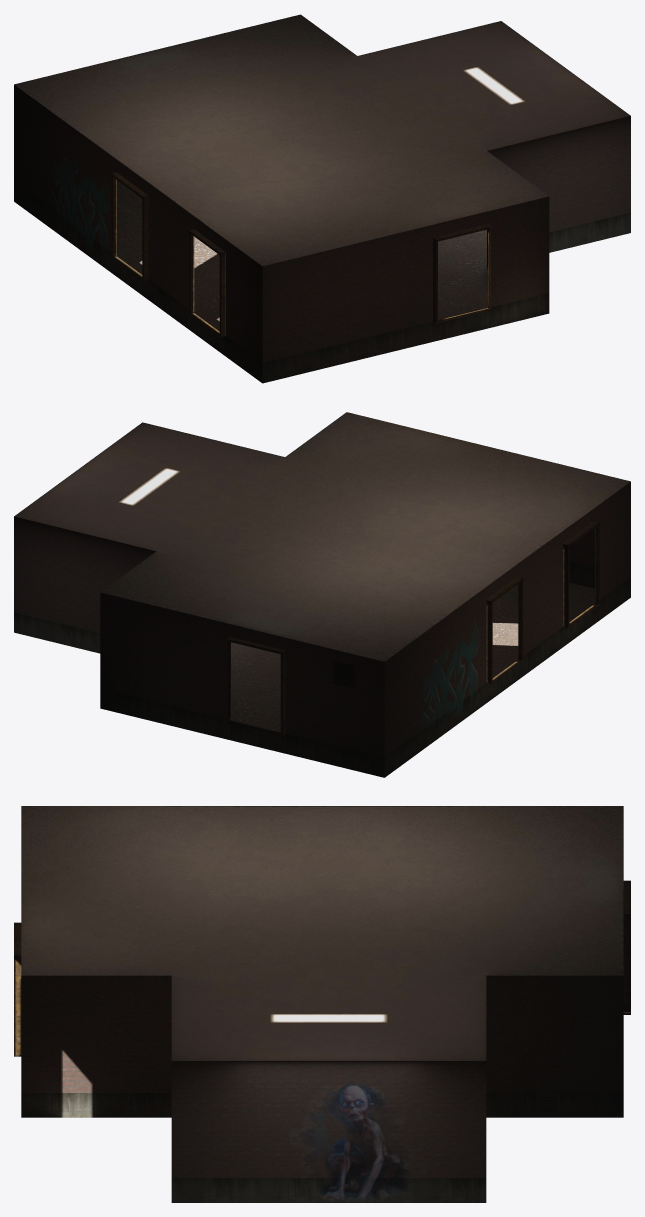
The model's file is room.obj.
3 views of the same model, one above another, from view 1: azimuth 30°, elevation 25°; view 2: azimuth 150°, elevation 25°; view 3: azimuth 270°, elevation 25° (orthographic). The views are drawn at different scales.
Visible parts, largest first — view 1: group_3_ID45, group_5_ID59, group_4_ID52, group_0_ID4; view 2: group_3_ID45, group_5_ID59, group_4_ID52, group_0_ID4; view 3: group_3_ID45, group_5_ID59, group_0_ID4.
Boxes of the visible parts, box(x1,y1,x2,y2) form: group_3_ID45: box(14, 14, 630, 266); group_5_ID59: box(14, 84, 630, 383); group_4_ID52: box(116, 180, 487, 331); group_0_ID4: box(111, 172, 490, 337); group_3_ID45: box(14, 412, 630, 661); group_5_ID59: box(14, 481, 630, 777); group_4_ID52: box(231, 582, 594, 731); group_0_ID4: box(228, 521, 599, 735); group_3_ID45: box(21, 806, 623, 1060); group_5_ID59: box(21, 975, 623, 1202); group_0_ID4: box(14, 880, 630, 1056).
Bounding box in the file's own units: 10.75 × 2.76 × 10.88.
1 material, 1 textured.
